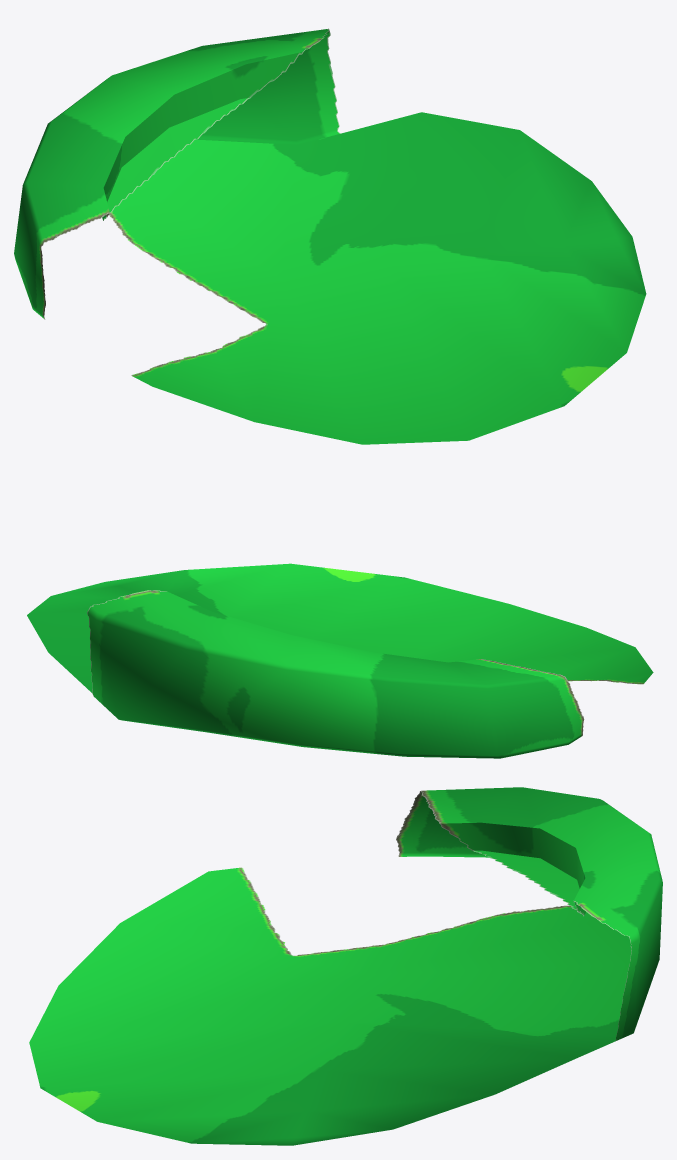
The model's file is Tomato.02.fbx.
3 views of the same model, one above another, from view 1: azimuth 30°, elevation 25°; view 2: azimuth 150°, elevation 25°; view 3: azimuth 270°, elevation 25° (orthographic). The views are drawn at different scales.
Parts seen in each view (by area): view 1: Tomato.02; view 2: Tomato.02; view 3: Tomato.02.
Part boxes in pixels (left/top/right/bottom): Tomato.02: left=14, top=28, right=646, bottom=444; Tomato.02: left=27, top=563, right=653, bottom=758; Tomato.02: left=29, top=787, right=662, bottom=1145.
Size of the model in its own units: 44.73 by 14.07 by 42.42.
